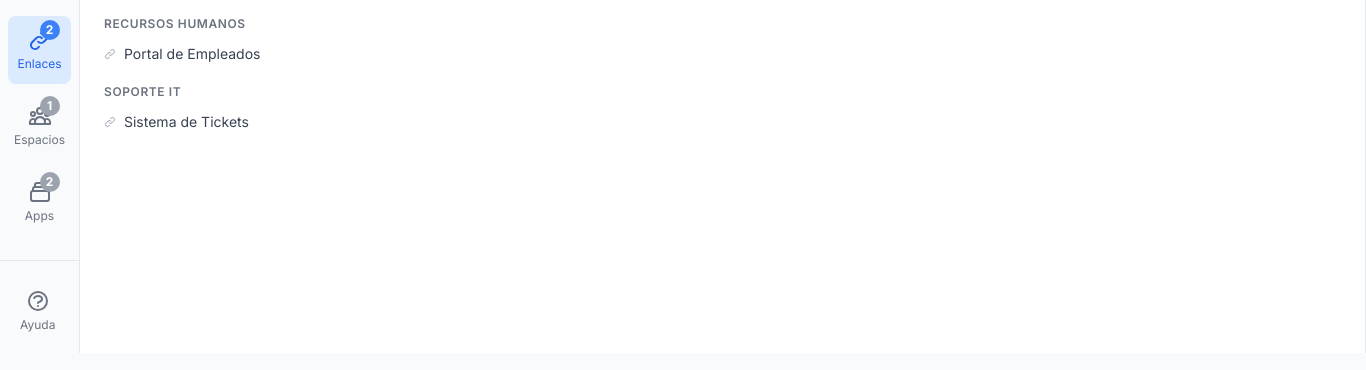
it: SidebarTabs › shows applications when apps tab is clicked
# Click on apps tab
Click the tab "2 Apps" at (40, 202), box [8,168,71,236]
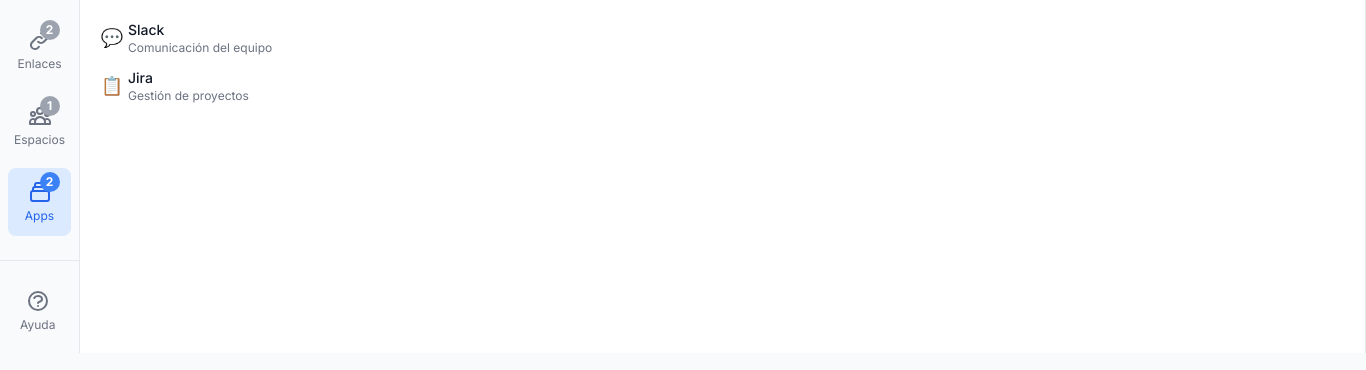
Result: the text "Slack" is shown at [128,21,164,38]
Result: the text "Jira" is shown at [128,69,153,86]
